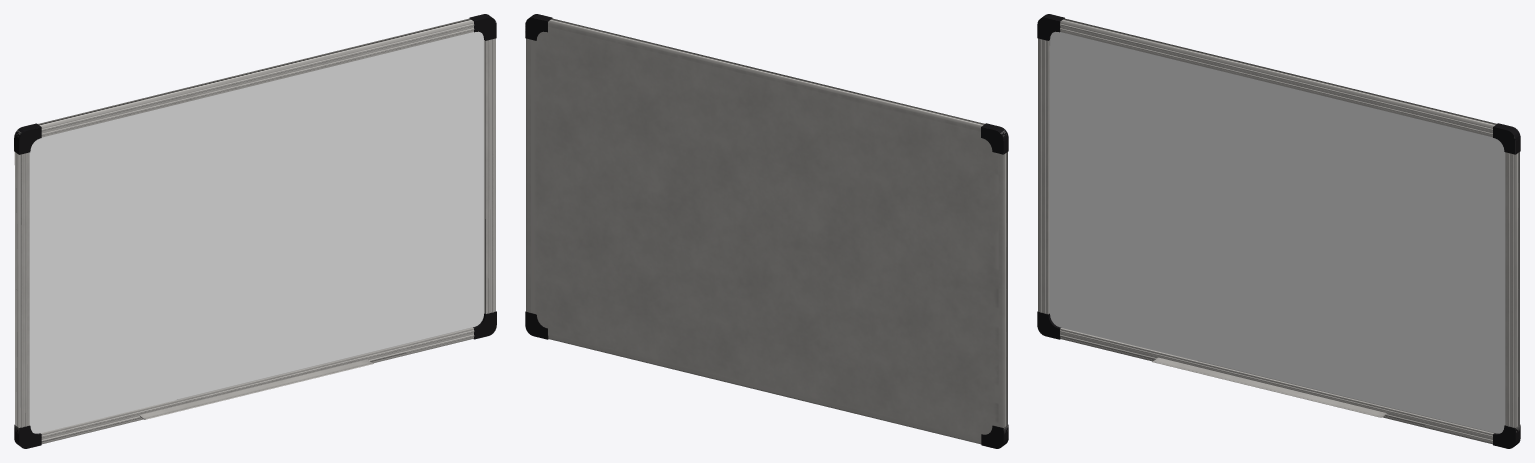
Rendered from Whiteboard.fbx.
3 views of the same model, side by side, from view 1: azimuth 30°, elevation 25°; view 2: azimuth 150°, elevation 25°; view 3: azimuth 330°, elevation 25° (orthographic).
Visible parts, largest first — view 1: Whiteboard; view 2: Whiteboard; view 3: Whiteboard.
Boxes of the visible parts, <box> form: Whiteboard: <box>14,14,496,448</box>; Whiteboard: <box>525,14,1008,448</box>; Whiteboard: <box>1037,14,1520,448</box>.
Bounding box in the file's own units: 91.17 × 3.76 × 58.
1 material, 1 textured.
